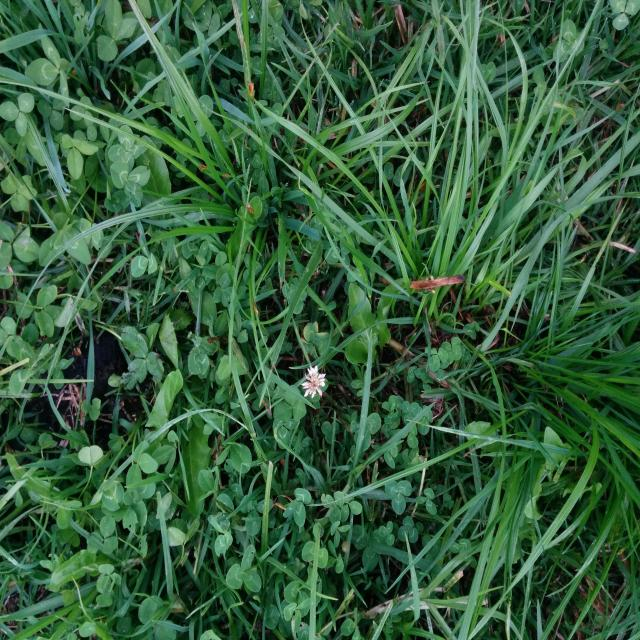Four Leaf Clover: (441, 336, 461, 365)
